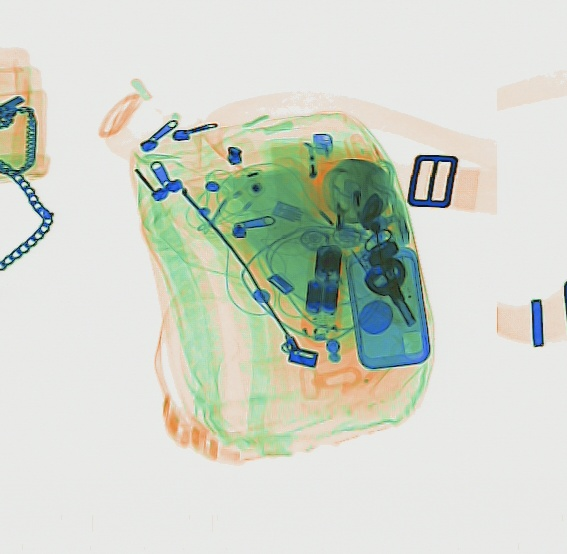lighter: (298, 132, 336, 222), (330, 172, 361, 270), (337, 160, 371, 241)
